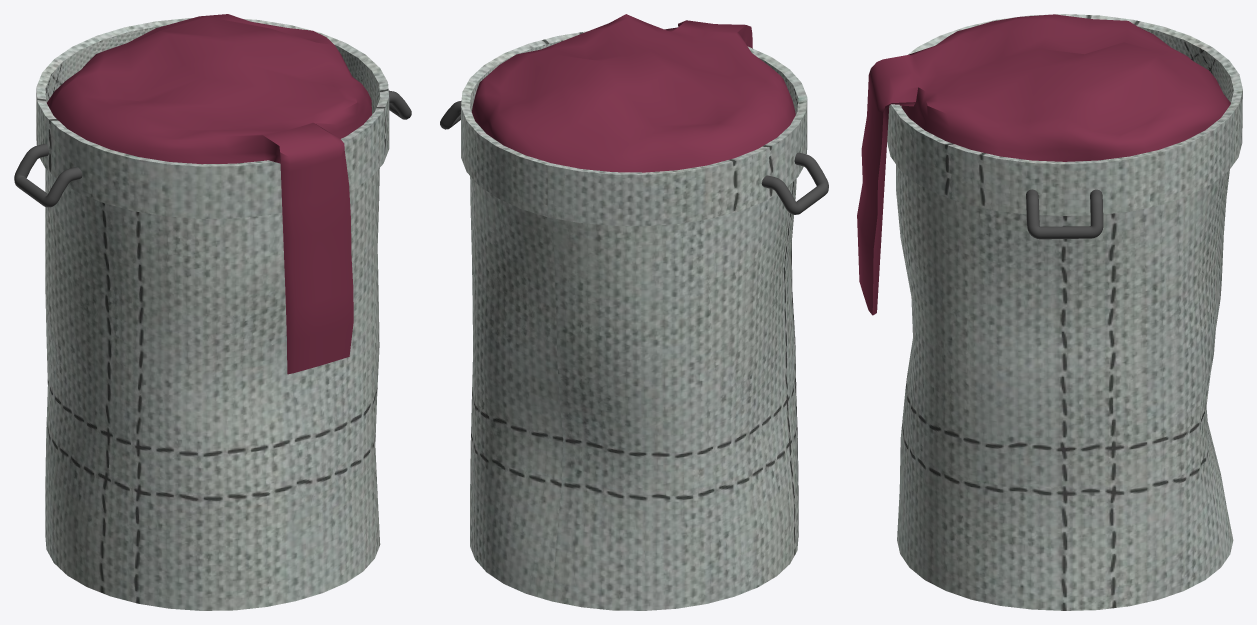
Rendered from Cesto ropa (Recolectar).fbx.
The picture shows the model from 3 angles, left to right: view 1: azimuth 30°, elevation 25°; view 2: azimuth 150°, elevation 25°; view 3: azimuth 270°, elevation 25°; orthographic projection. The views are drawn at different scales.
Parts seen in each view (by area): view 1: Cesto para meter ropa; view 2: Cesto para meter ropa; view 3: Cesto para meter ropa.
Part boxes in pixels (bbox=[...]): Cesto para meter ropa: bbox=[14, 14, 411, 610]; Cesto para meter ropa: bbox=[440, 14, 828, 610]; Cesto para meter ropa: bbox=[857, 14, 1242, 610].
Size of the model in its own units: 40.56 by 51.31 by 36.55.
Materials: 3 (1 with a texture image).
